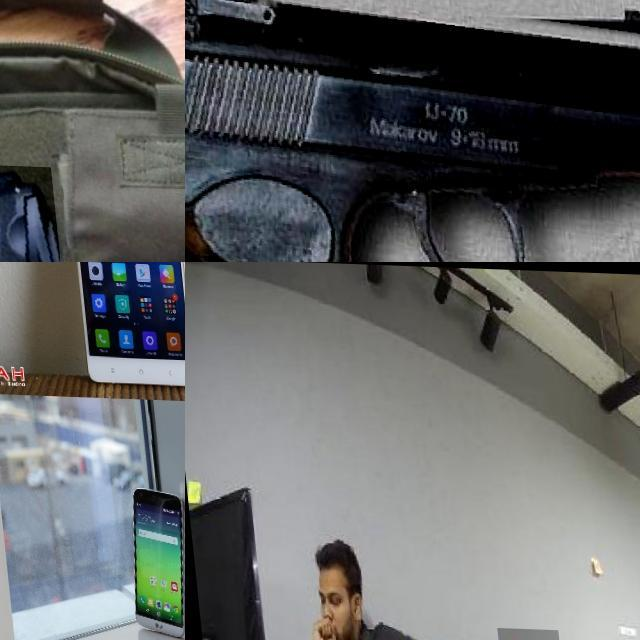-: (489, 625, 555, 640)
gun-knife-thesis - v11 Yolov5 augmented: (185, 0, 640, 262), (0, 157, 147, 262)
